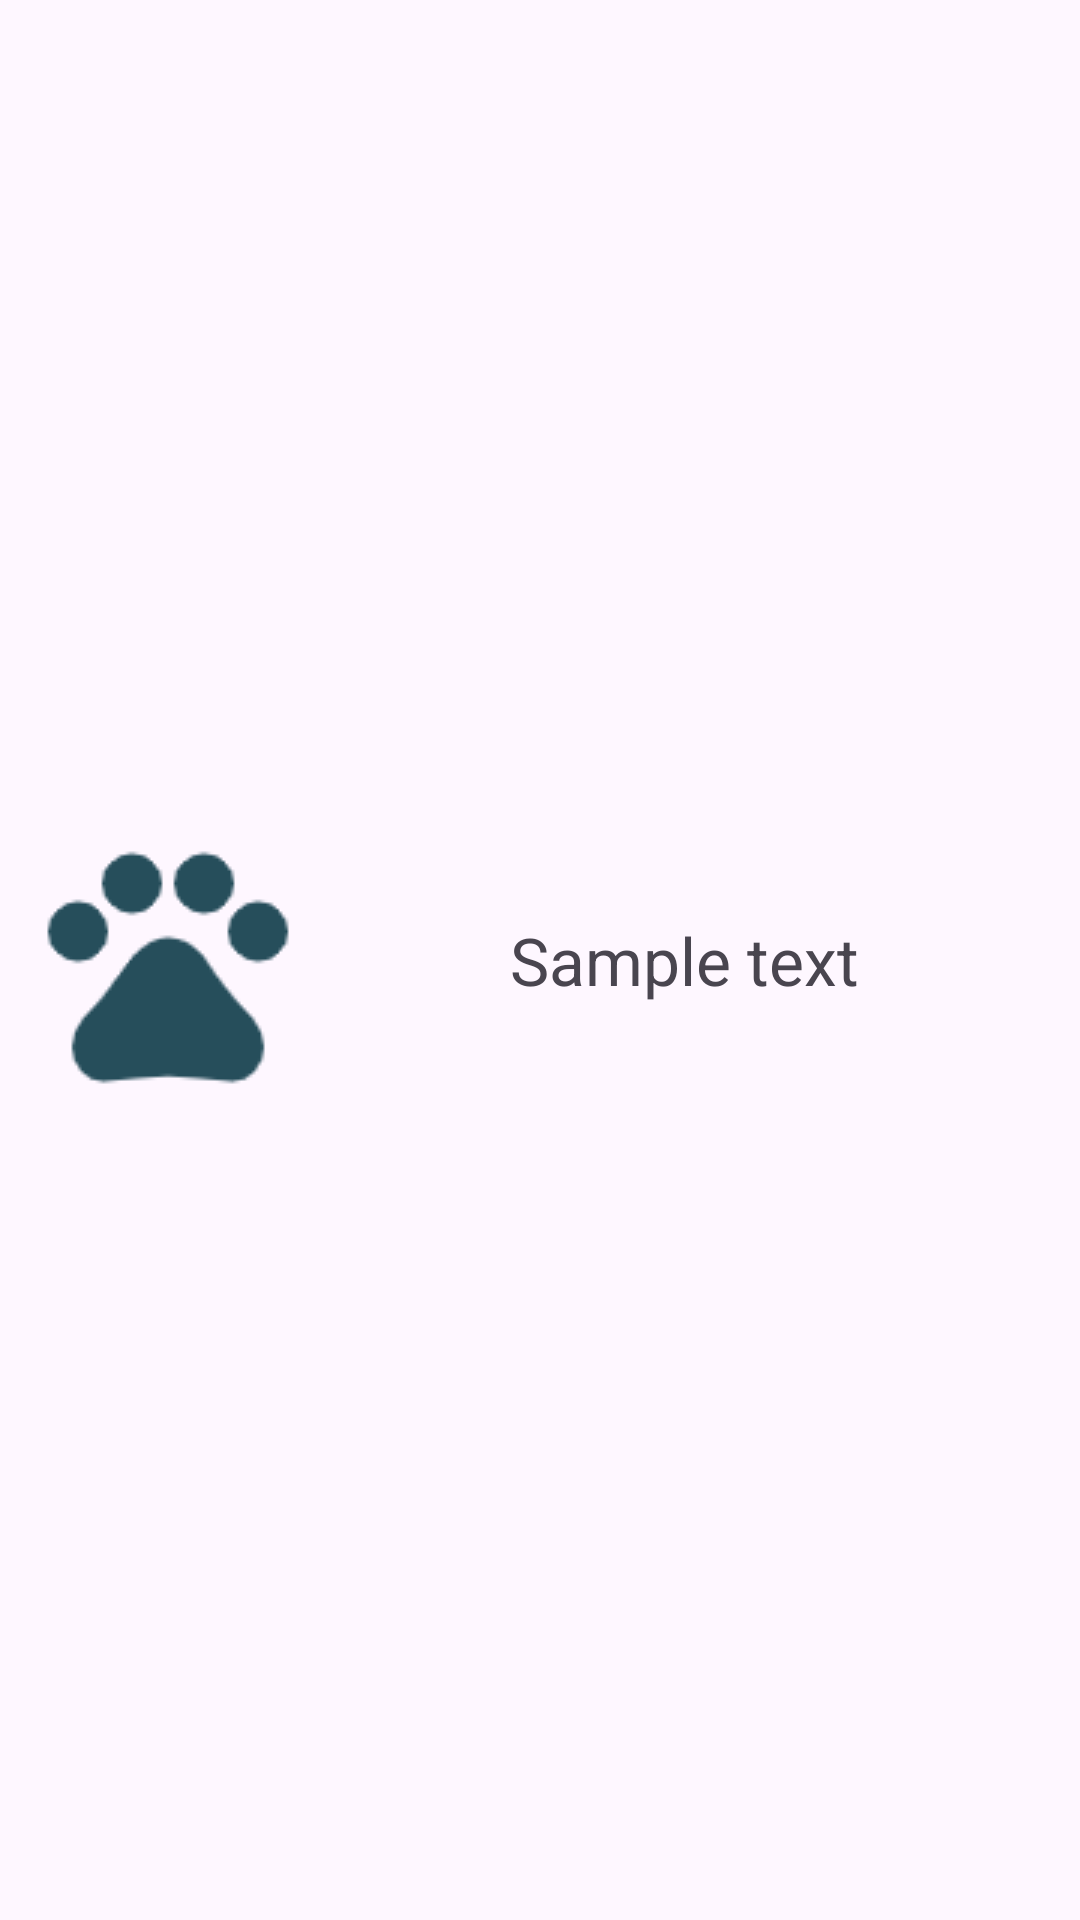

Where icons sit on this 1080px×1920px app screen, as (x1, y1, x2, y2):
pet: (47, 851, 289, 1084)
